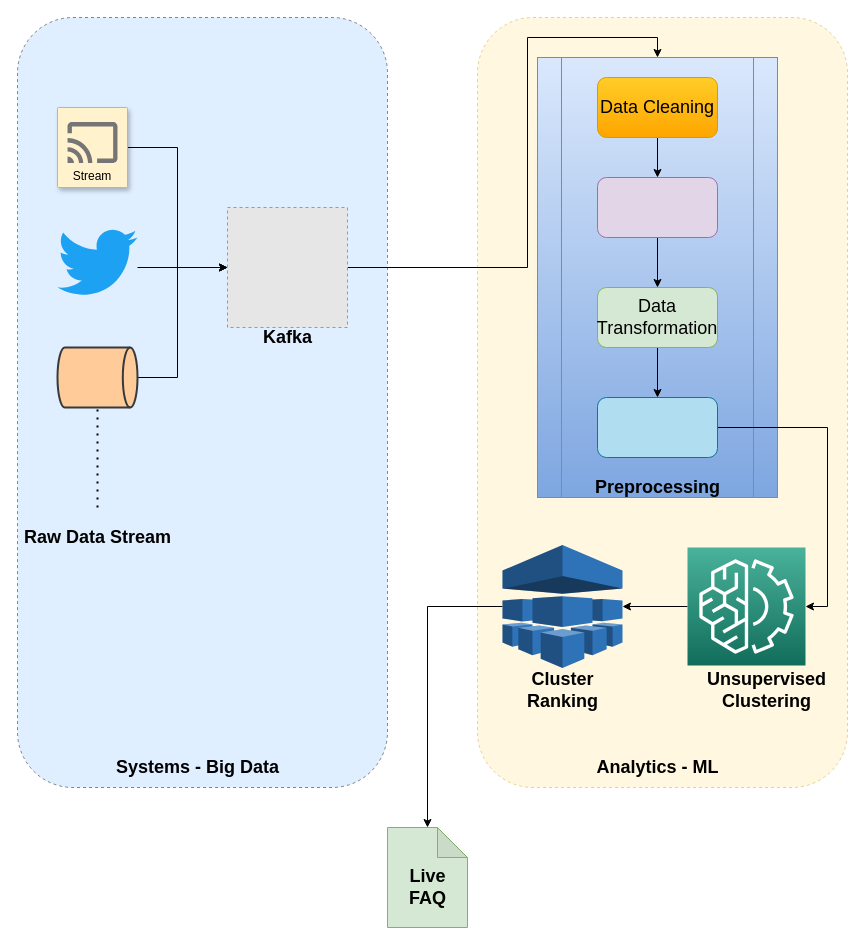
This 865x945 diagram has some shape labels left out. Grey dashed boxes stand in for pictures. The shapes that lost their labels are listed below. From the top down, each one's centre as x and y in pixels, then its label:
At [657,207]: "Question Detection".
At [657,427]: "Sentence Embeddings".
